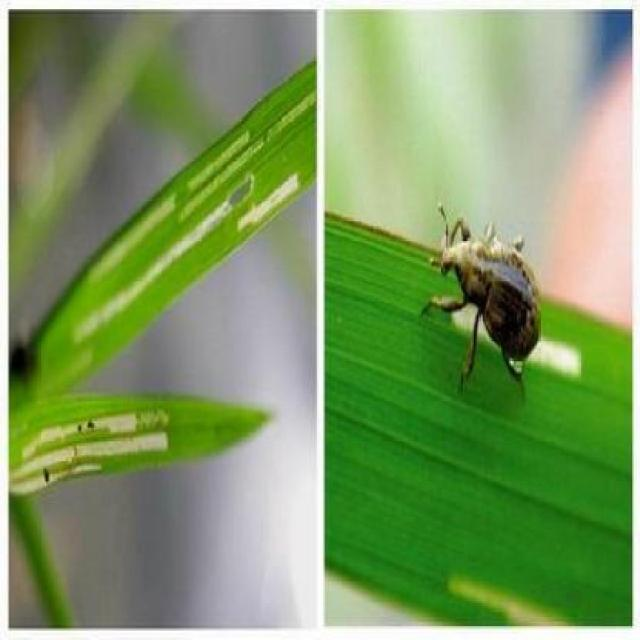rice-bug: (431, 215, 543, 363)
